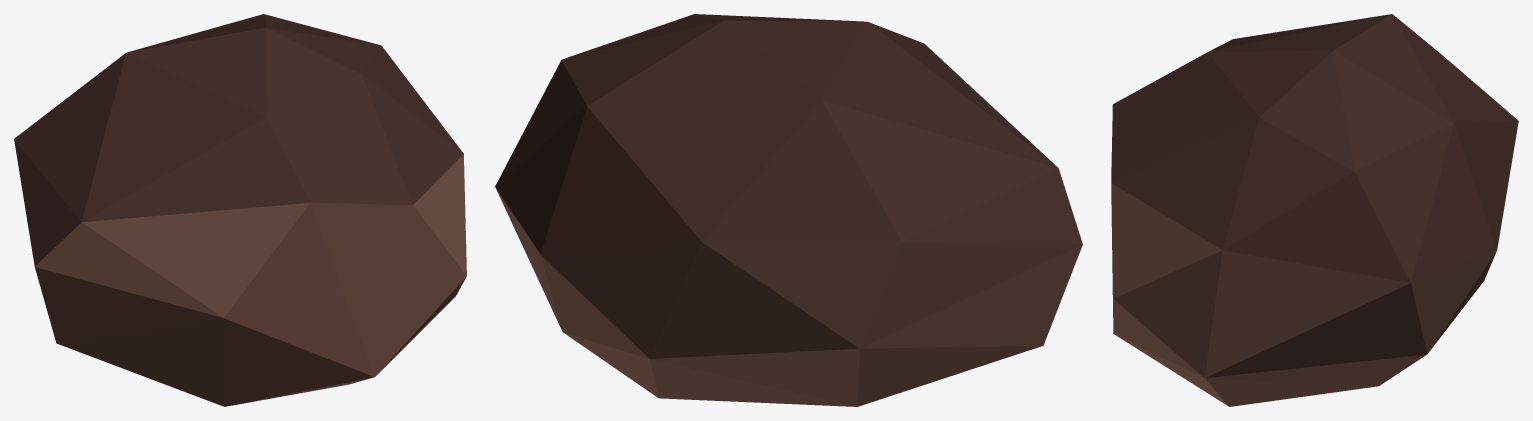
Rendered from Brown_stone_009.fbx.
3 views of the same model, side by side, from view 1: azimuth 30°, elevation 25°; view 2: azimuth 150°, elevation 25°; view 3: azimuth 270°, elevation 25° (orthographic). The views are drawn at different scales.
Parts seen in each view (by area): view 1: Brown_stone_009; view 2: Brown_stone_009; view 3: Brown_stone_009.
Part boxes in pixels (x1,y1,x2,y2): Brown_stone_009: [14, 14, 466, 406]; Brown_stone_009: [495, 14, 1082, 406]; Brown_stone_009: [1111, 14, 1518, 406].
Size of the model in its own units: 280 by 228 by 209.
